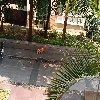fire: (38, 45, 46, 52)
